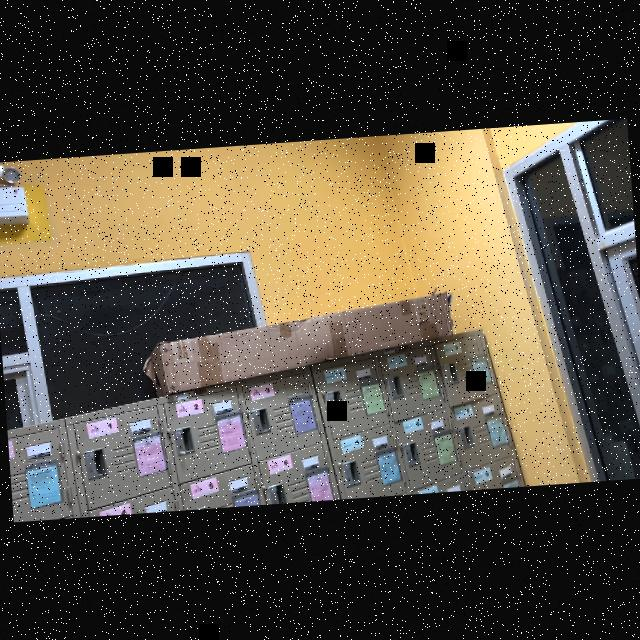cardboard_box: (138, 288, 460, 400)
